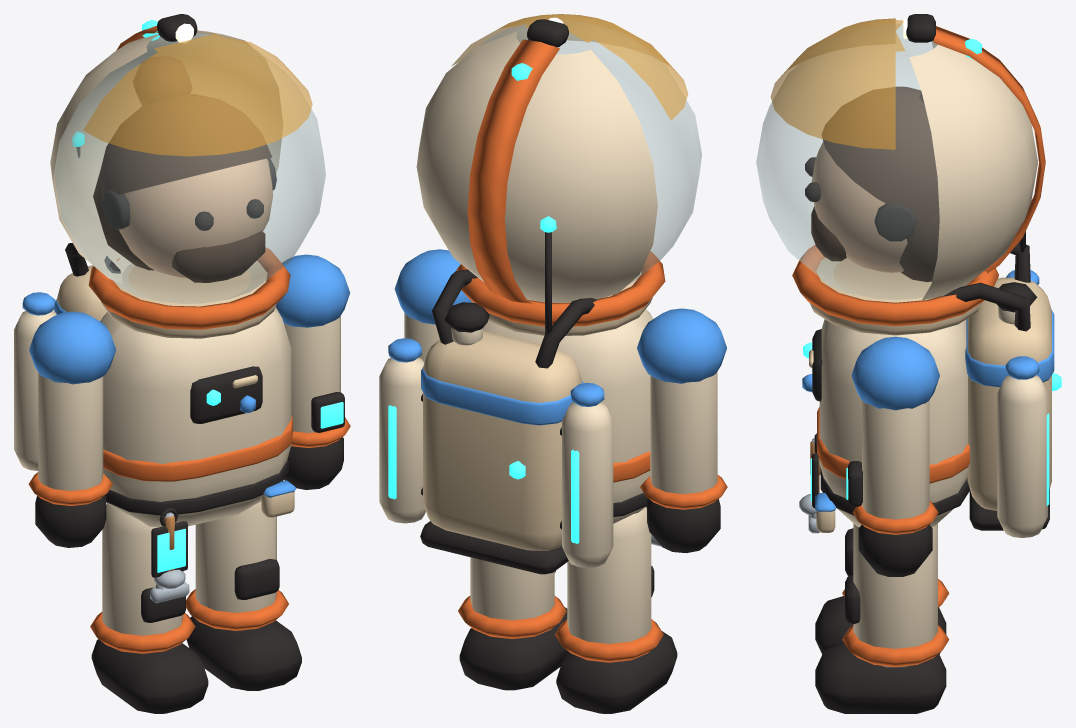
The model's file is elevate-3.glb.
3 renders of one model, left to right at view 1: azimuth 30°, elevation 25°; view 2: azimuth 150°, elevation 25°; view 3: azimuth 270°, elevation 25°, orthographic. The views are drawn at different scales.
Parts seen in each view (by area): view 1: body, arm_r, leg_l, leg_r, hair_bun, arm_l, beard, tool_tablet, hair_full, tool_hammer; view 2: body, arm_r, leg_r, leg_l, stripe, arm_l, aerial; view 3: body, arm_l, leg_l, hair_bun, stripe, leg_r, hair_full, beard.
Boxes of the visible parts, x1,y1,x2,y2 form: body: (14, 14, 325, 526); arm_r: (28, 311, 115, 547); leg_l: (186, 501, 301, 690); leg_r: (90, 503, 208, 713); hair_bun: (99, 56, 271, 199); arm_l: (276, 254, 350, 489); beard: (172, 231, 265, 282); tool_tablet: (151, 521, 187, 577); hair_full: (93, 174, 154, 270); tool_hammer: (150, 507, 189, 603); body: (379, 14, 701, 574); arm_r: (637, 308, 727, 553); leg_r: (554, 507, 677, 713); leg_l: (458, 557, 568, 690); stripe: (467, 39, 559, 303); arm_l: (394, 249, 471, 362); aerial: (540, 216, 556, 334); body: (756, 14, 1061, 537); arm_l: (846, 336, 939, 576); leg_l: (815, 525, 949, 713); hair_bun: (821, 86, 939, 222); stripe: (933, 26, 1045, 273); leg_r: (815, 523, 949, 654); hair_full: (899, 212, 939, 282); beard: (811, 206, 846, 261).
Bounding box in the file's own units: 0.864 × 1.74 × 0.7228.
